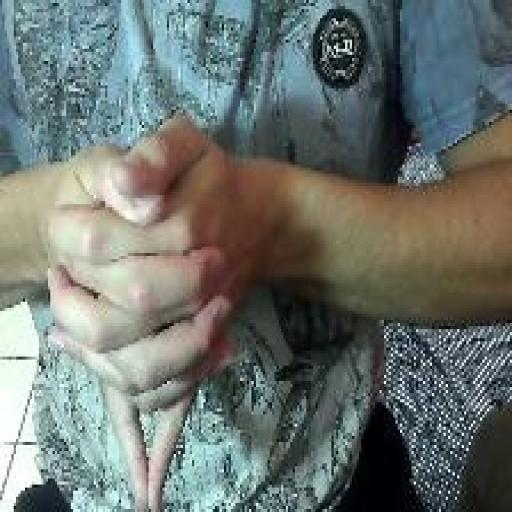Tatsu -dragon-: (44, 113, 244, 512)
